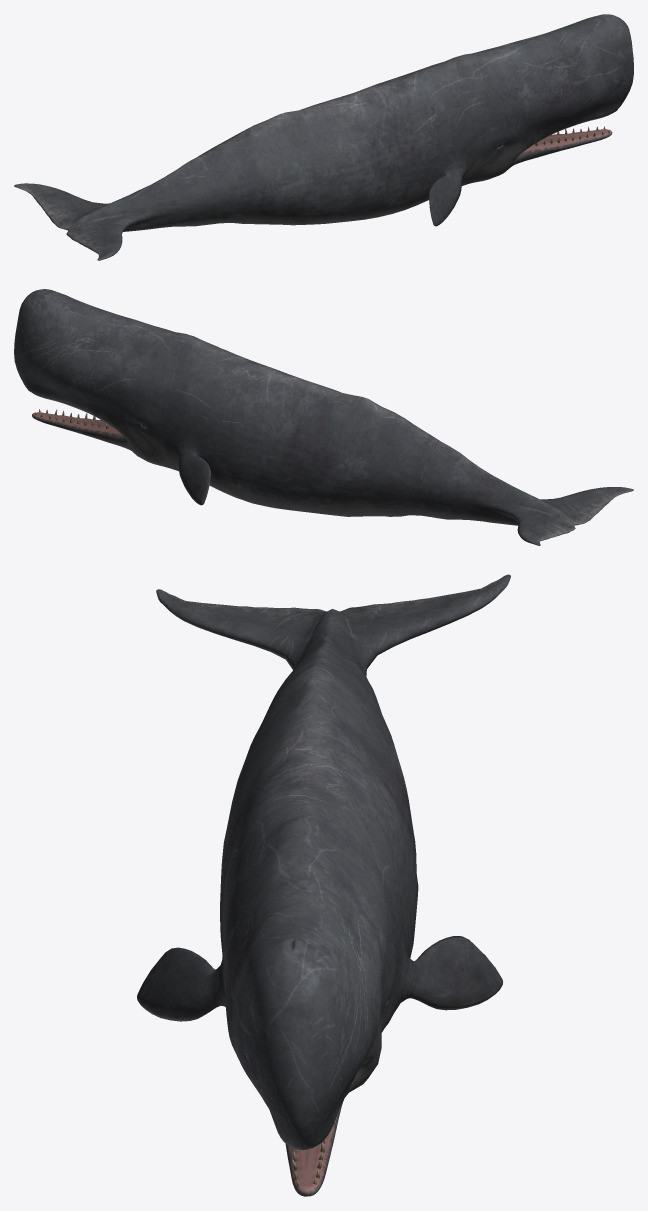
The model's file is SpermWhale.fbx.
3 renders of one model, top to bottom at view 1: azimuth 30°, elevation 25°; view 2: azimuth 150°, elevation 25°; view 3: azimuth 270°, elevation 25°, orthographic. The views are drawn at different scales.
Visible parts, largest first — view 1: Body; view 2: Body; view 3: Body.
Part boxes in pixels (box(x1,y1,x2,y2)): Body: box(14, 14, 633, 260); Body: box(14, 289, 633, 545); Body: box(137, 574, 510, 1196).
Bounding box in the file's own units: 698 × 174 × 198.
Materials: 1 (1 with a texture image).
